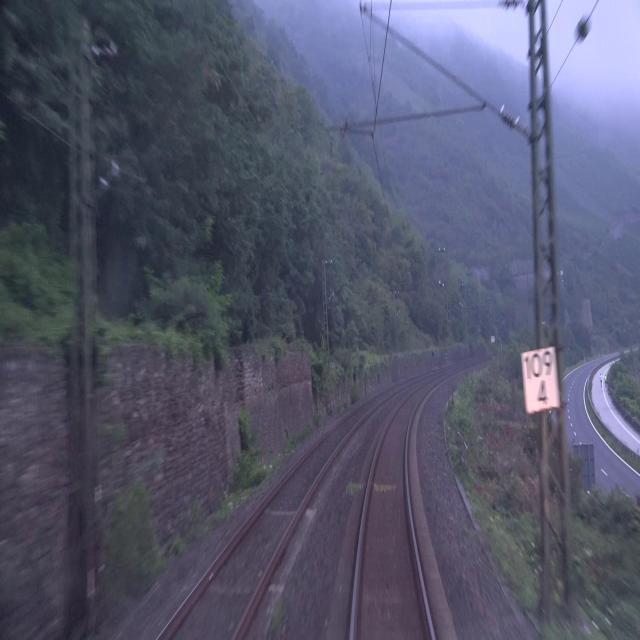rail-track: (161, 399, 377, 639), (356, 385, 431, 639)
